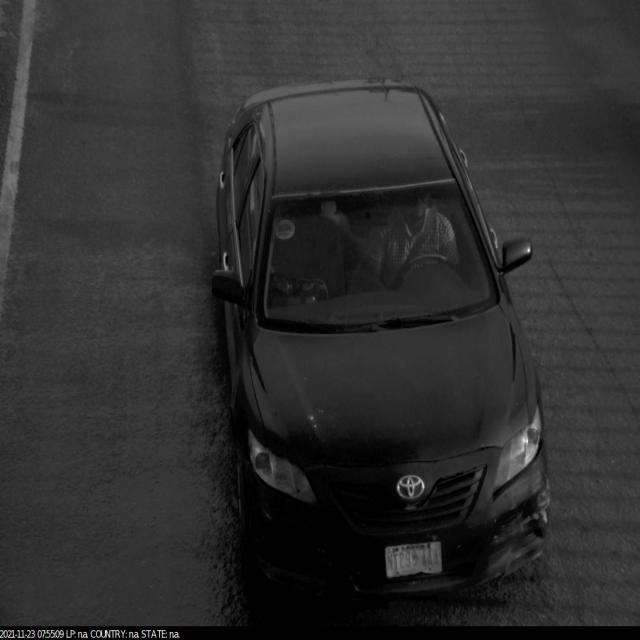windshield: (254, 179, 506, 341)
